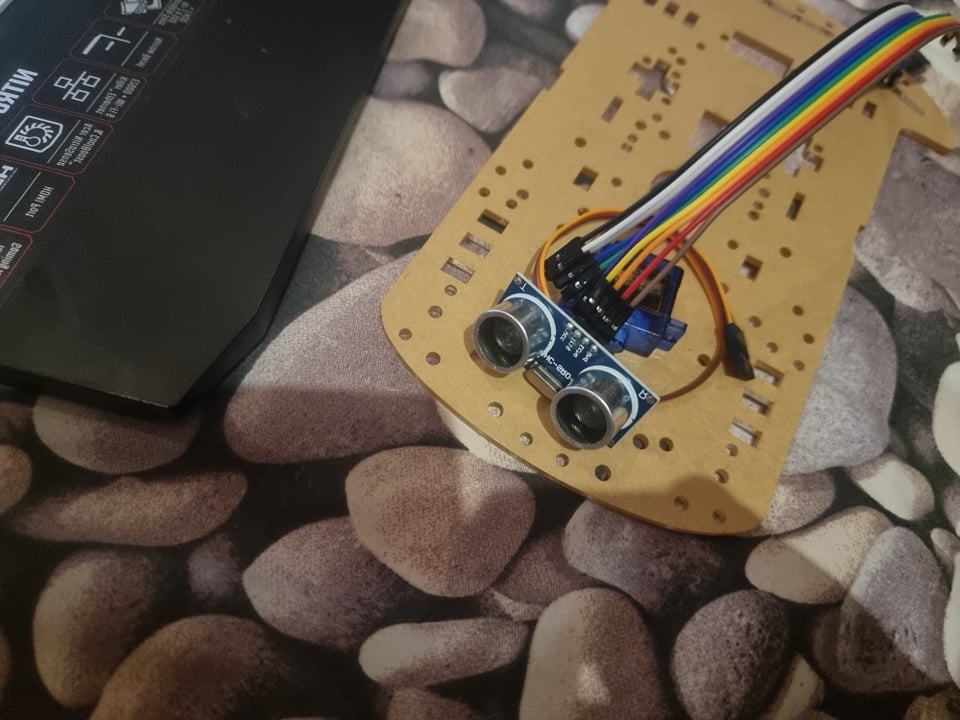SENSOR: (467, 280, 661, 455)
